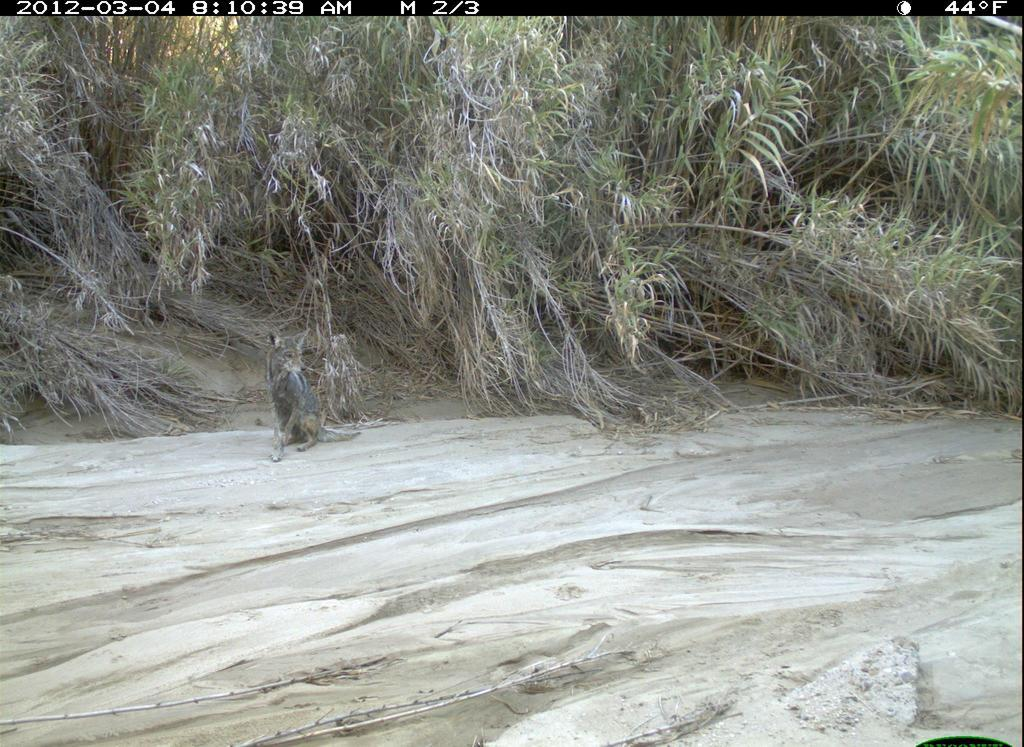coyote: (246, 314, 373, 469)
